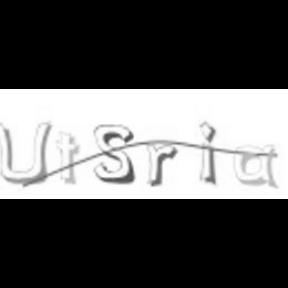S: (92, 122, 134, 186)
U: (0, 122, 54, 184)
a: (232, 141, 280, 191)
i: (196, 118, 220, 186)
r: (145, 141, 177, 187)
t: (55, 130, 81, 186)
